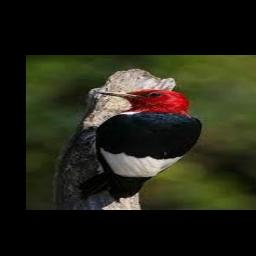Woodpecker: (79, 90, 206, 202)
